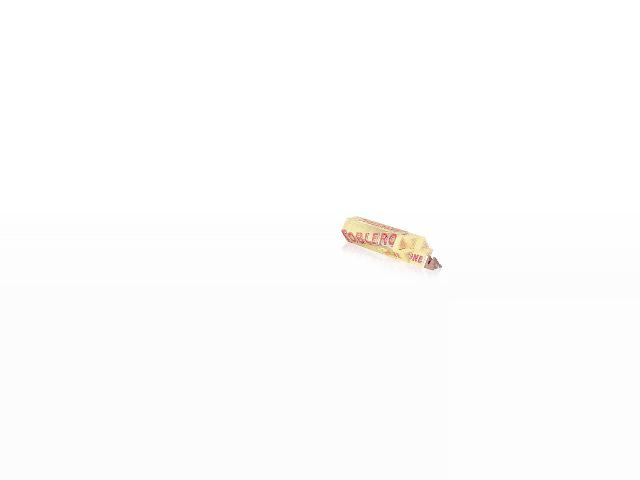chocolate: (342, 214, 442, 274)
